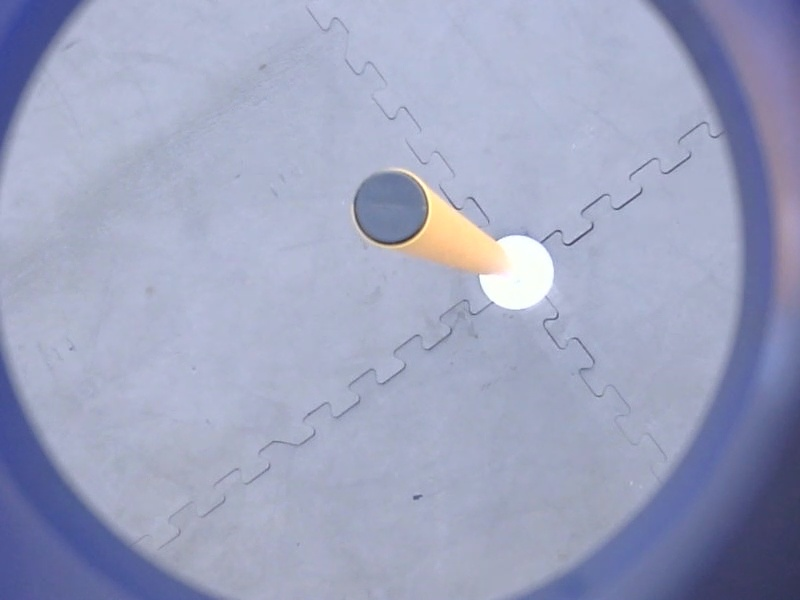tip: (345, 164, 436, 250)
